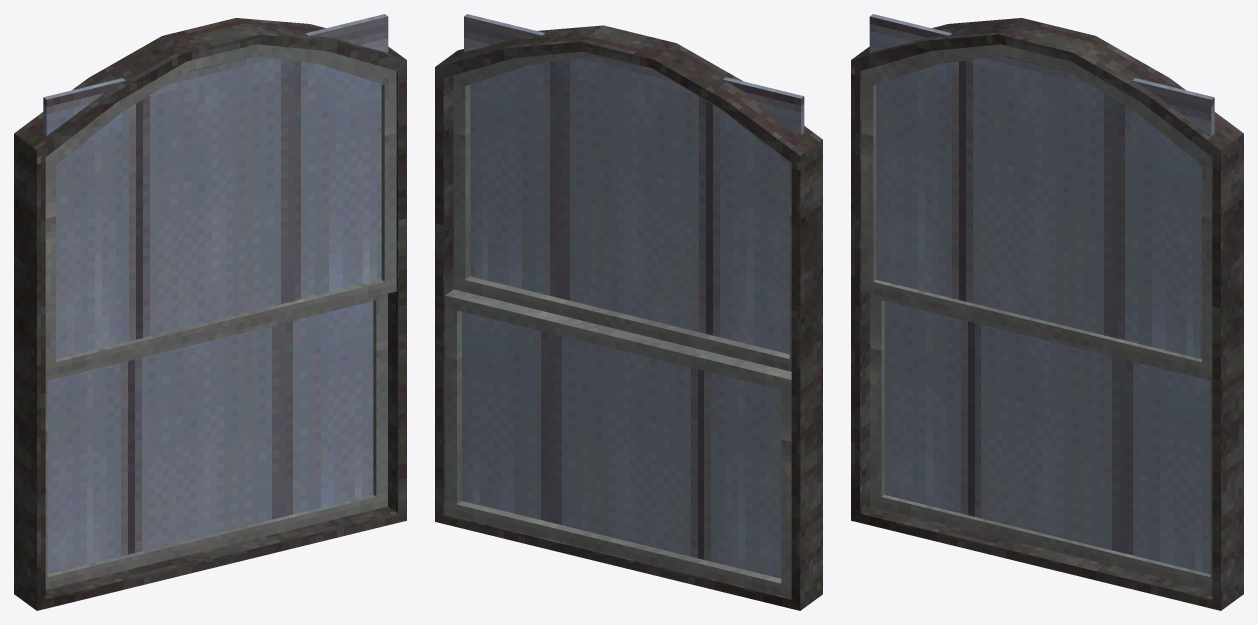
File: window_1.gltf
3 views of the same model, side by side, from view 1: azimuth 30°, elevation 25°; view 2: azimuth 150°, elevation 25°; view 3: azimuth 330°, elevation 25° (orthographic).
Visible parts, largest first — view 1: Cube.534, window_1, Cube.538, Cube.536, Cube.537; view 2: Cube.534, window_1, Cube.538, Cube.537, Cube.536; view 3: Cube.534, window_1, Cube.538, Cube.536, Cube.537.
Part boxes in pixels (x1=…): Cube.534: x1=43, y1=14, x2=388, y2=359; window_1: x1=47, y1=301, x2=373, y2=573; Cube.538: x1=14, y1=18, x2=406, y2=610; Cube.536: x1=45, y1=44, x2=396, y2=376; Cube.537: x1=45, y1=293, x2=387, y2=589; Cube.534: x1=464, y1=14, x2=804, y2=354; window_1: x1=462, y1=311, x2=781, y2=578; Cube.538: x1=435, y1=25, x2=822, y2=610; Cube.537: x1=445, y1=289, x2=791, y2=598; Cube.536: x1=453, y1=51, x2=791, y2=371; Cube.534: x1=869, y1=14, x2=1214, y2=359; window_1: x1=884, y1=301, x2=1210, y2=573; Cube.538: x1=851, y1=18, x2=1243, y2=610; Cube.536: x1=861, y1=44, x2=1212, y2=376; Cube.537: x1=870, y1=293, x2=1212, y2=589.
Size of the model in its own units: 1.26 by 1.7 by 0.1349.
Materials: 1 (1 with a texture image).
